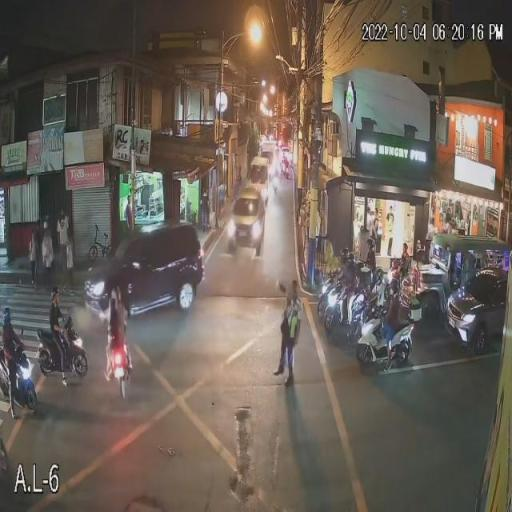helmet: (373, 266, 382, 286), (54, 289, 63, 308), (2, 308, 12, 325), (390, 281, 399, 298), (366, 239, 374, 255), (347, 254, 354, 270), (340, 248, 347, 260)
motorcycle: (358, 308, 419, 360), (324, 281, 376, 332), (0, 340, 38, 406), (39, 324, 91, 371), (319, 271, 343, 310), (109, 346, 127, 392)
rider: (2, 308, 14, 367), (110, 294, 122, 350), (387, 282, 399, 332), (53, 290, 63, 338), (372, 267, 384, 301), (348, 253, 357, 296), (364, 240, 375, 273), (339, 247, 346, 280)
